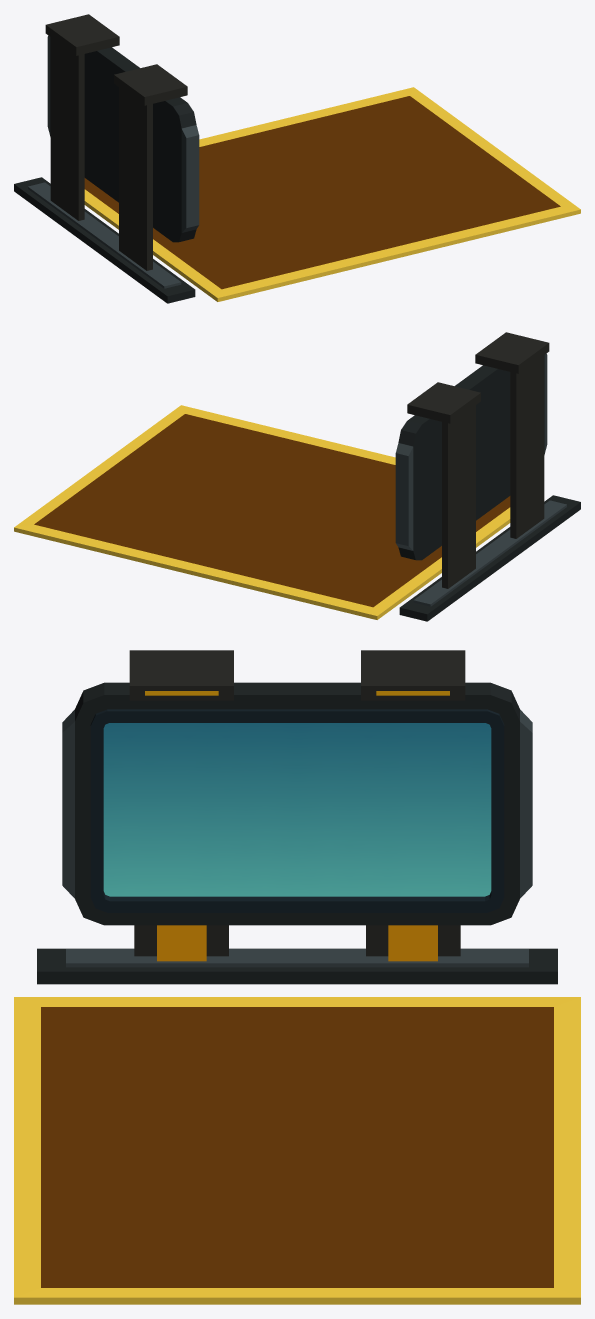
File: timemachine.fbx
The picture shows the model from 3 angles, top to bottom: view 1: azimuth 30°, elevation 25°; view 2: azimuth 150°, elevation 25°; view 3: azimuth 270°, elevation 25°; orthographic projection. The views are drawn at different scales.
Visible parts, largest first — view 1: bodem; view 2: bodem; view 3: bodem.
Boxes of the visible parts, x1,y1,x2,y2 form: bodem: (14, 14, 580, 303); bodem: (14, 332, 580, 621); bodem: (14, 650, 580, 1304).
Bounding box in the file's own units: 5.43 × 2.42 × 3.87.
